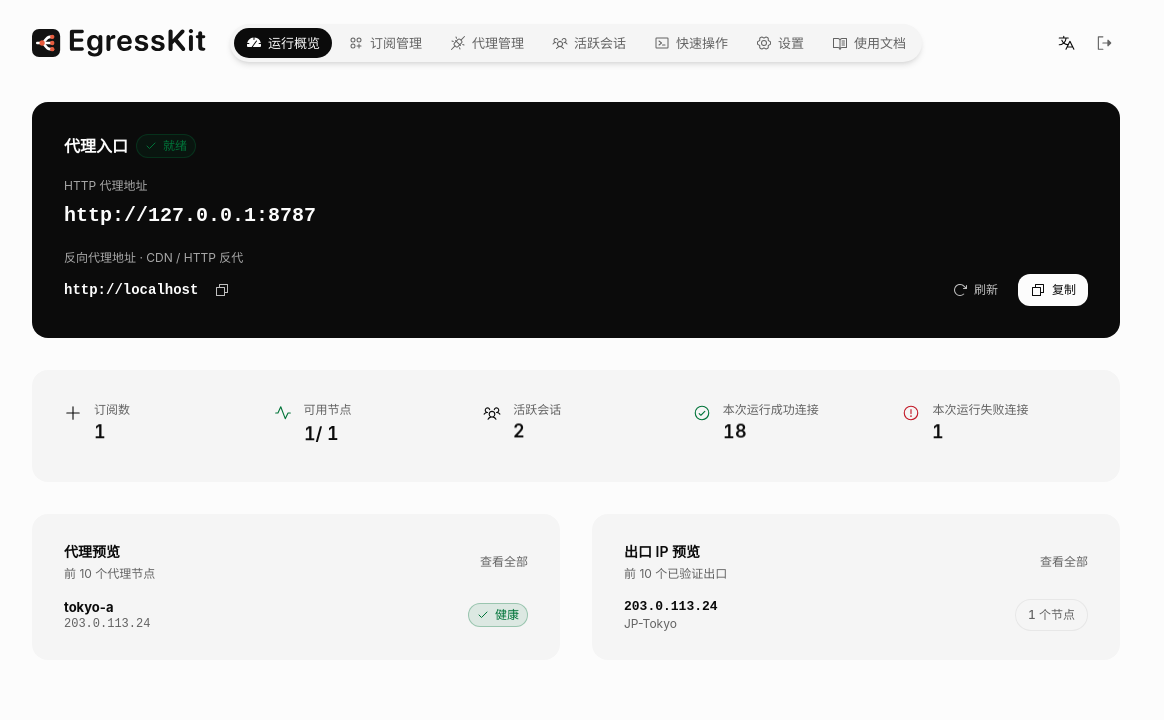
console router › switches routes without mounting the other management panels
The width and height of the screenshot is (1164, 720).
Click the button "活跃会话": (589,43) [540, 28, 638, 58]
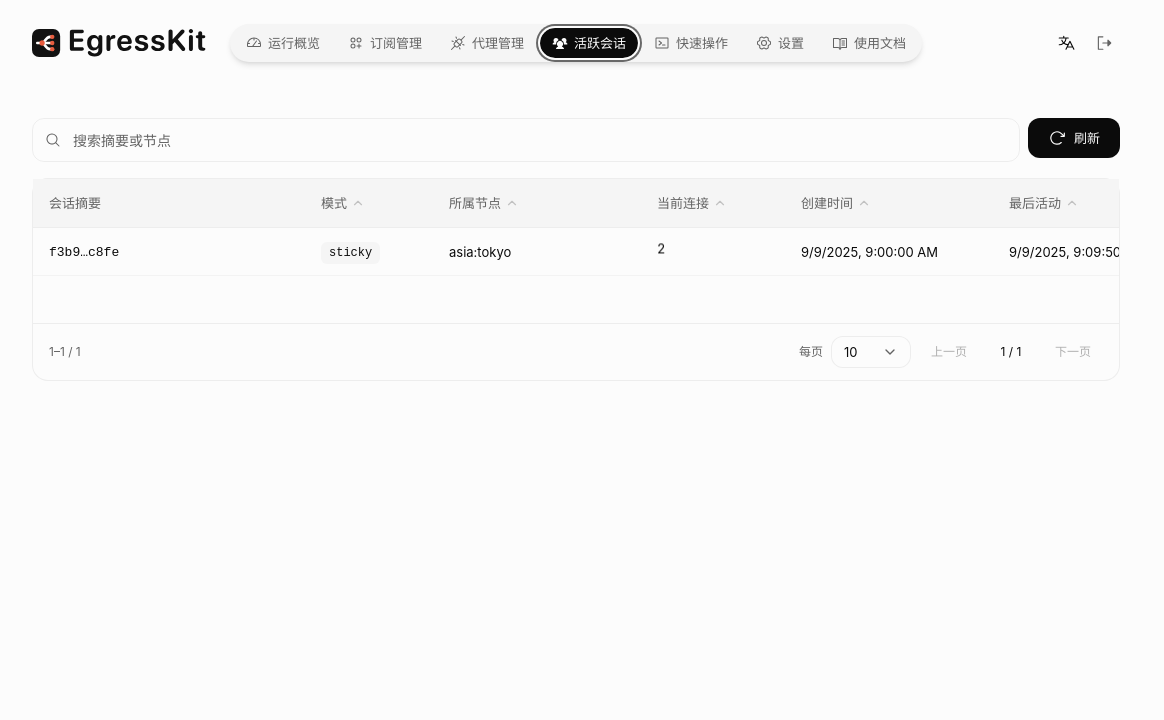
Expected: the element named "活跃会话面板" is shown, [0, 78, 1152, 445]
